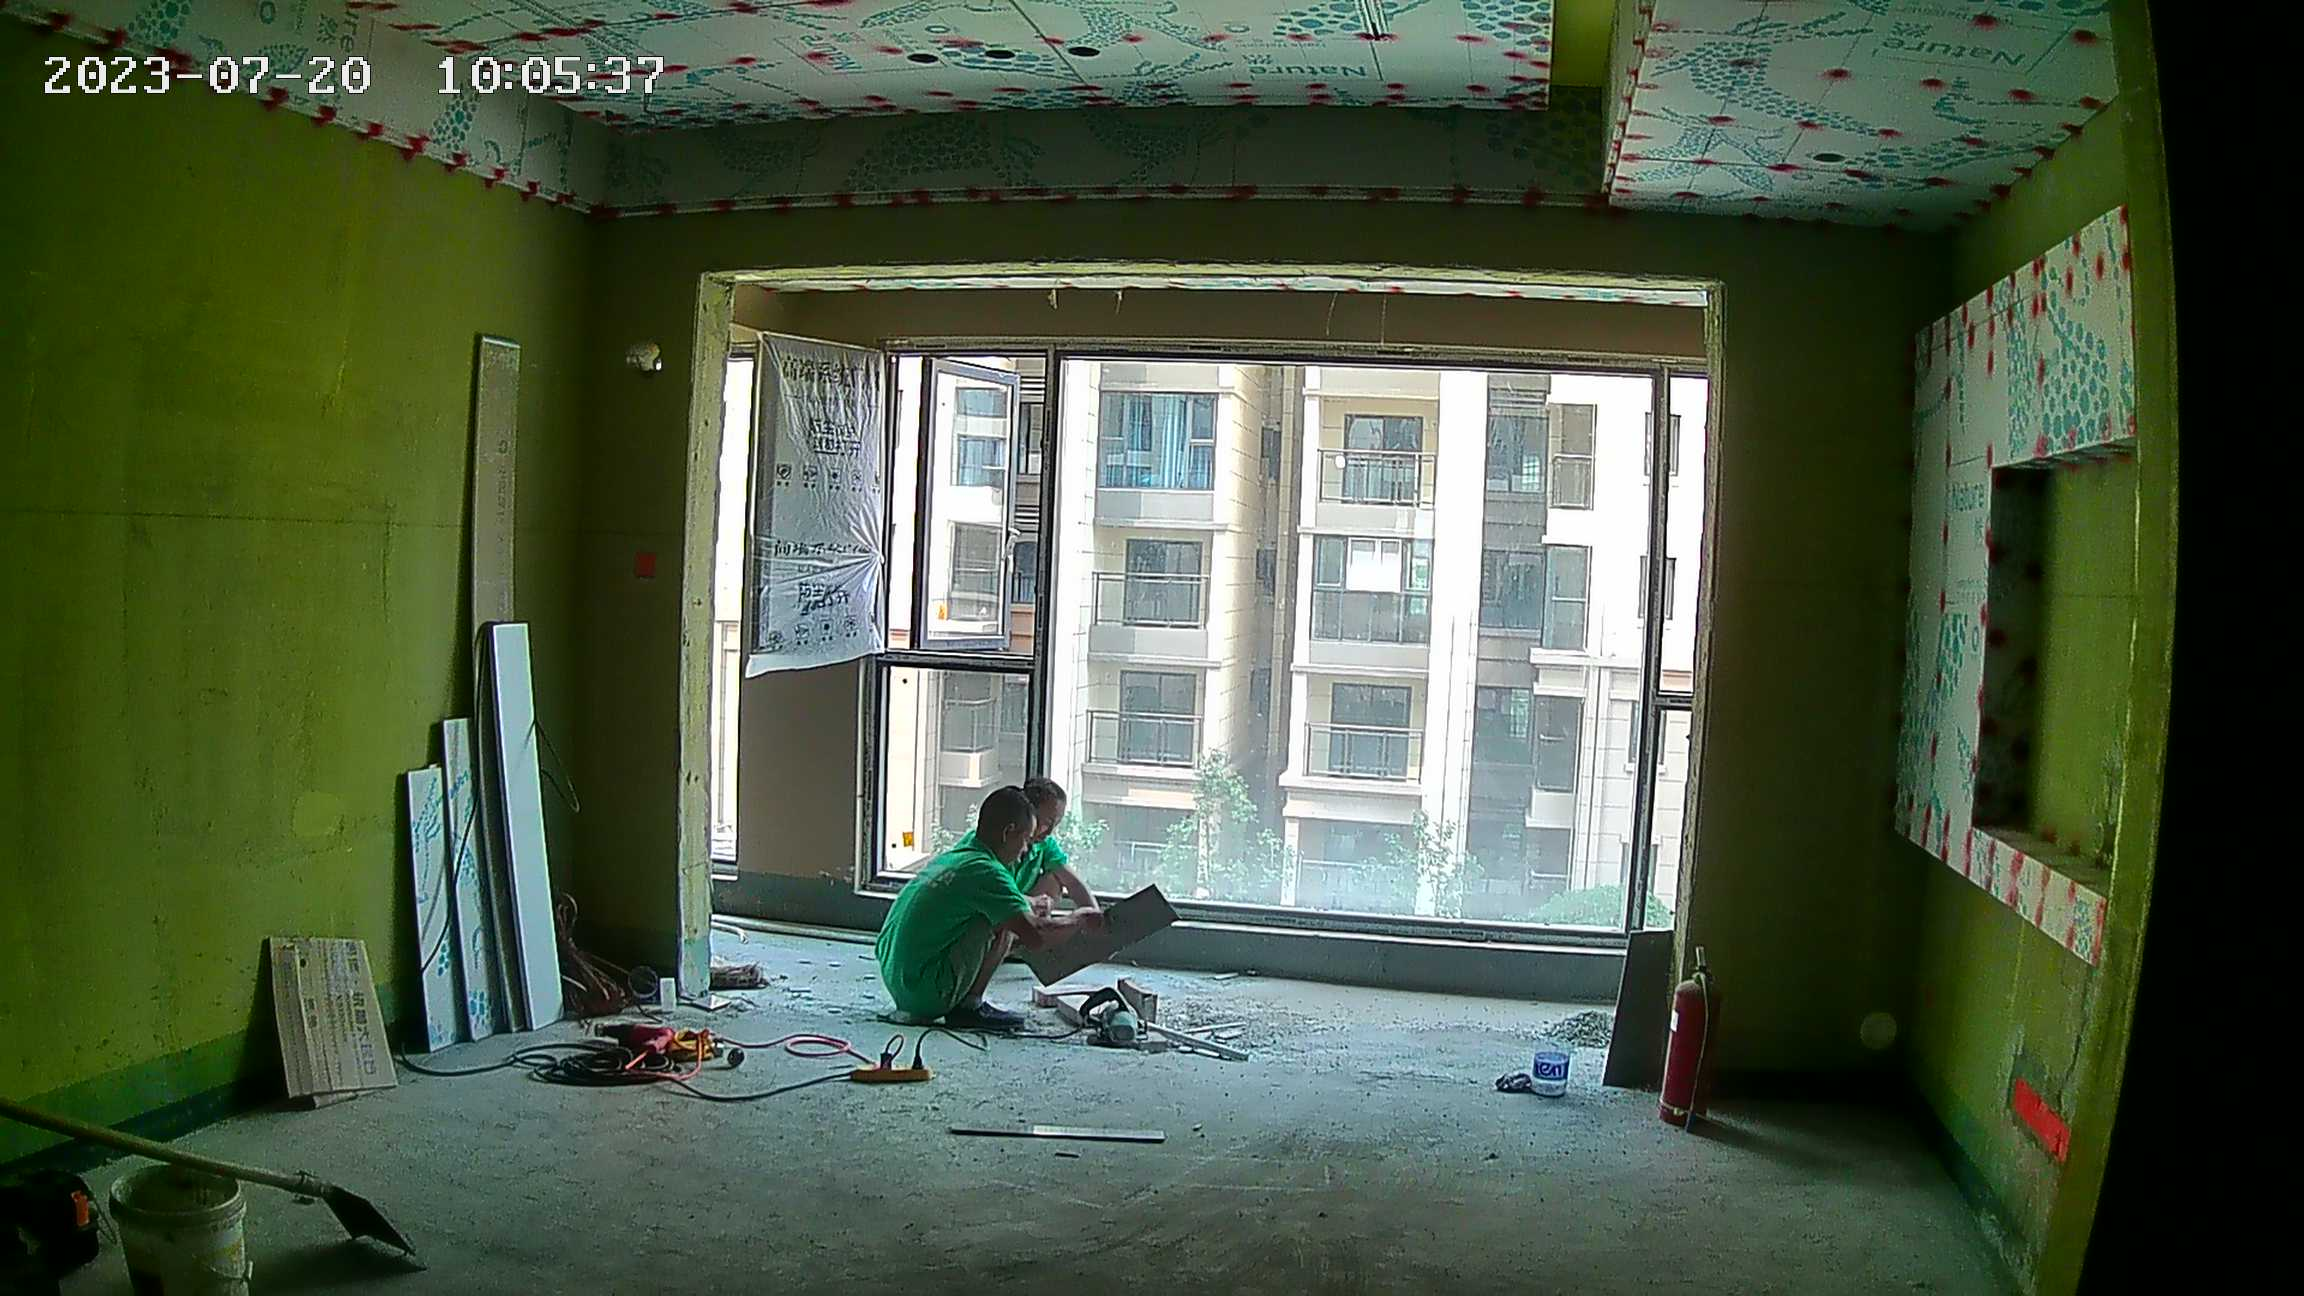people: (875, 784, 1098, 1031)
window: (881, 349, 1695, 942)
